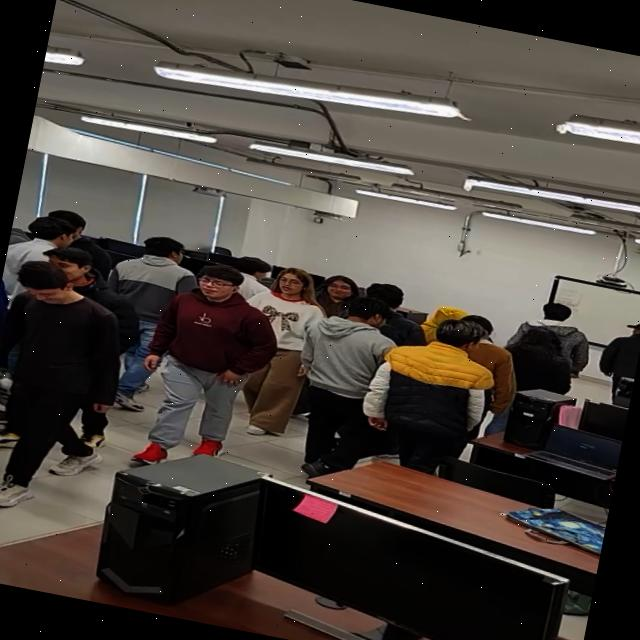Persona: (132, 254, 280, 496), (0, 252, 127, 528), (372, 305, 497, 485), (294, 292, 397, 486), (106, 226, 200, 407), (240, 258, 326, 438), (508, 320, 586, 405)
